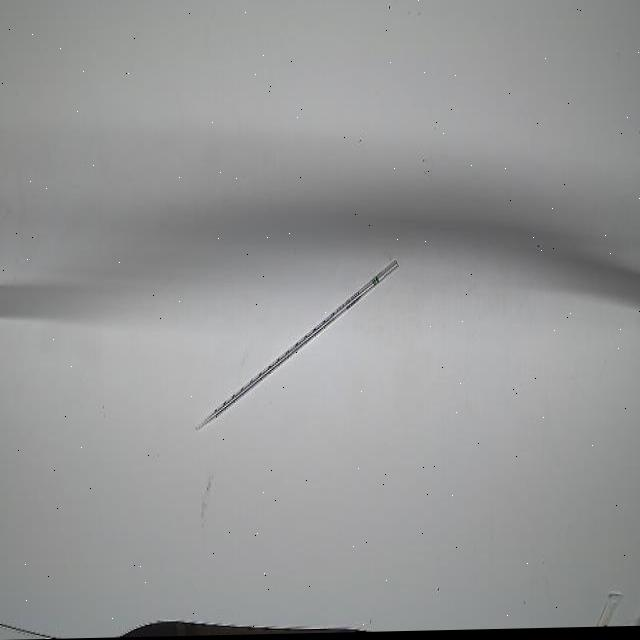Serelogical Pipet 2 mL: (194, 258, 402, 435)
